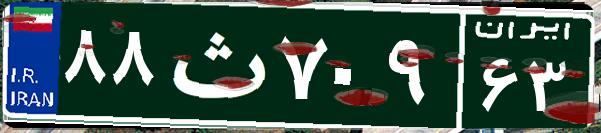0: (330, 28, 385, 110)
3: (525, 38, 570, 115)
6: (475, 38, 525, 113)
7: (273, 28, 330, 110)
8: (57, 26, 110, 107), (110, 28, 158, 105)
9: (385, 28, 445, 110)
ث: (158, 15, 273, 115)
